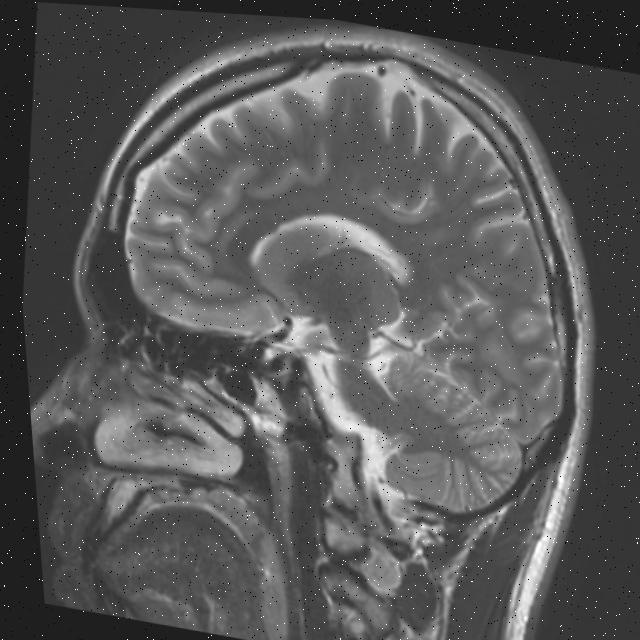NoTumor: (29, 2, 640, 539)
